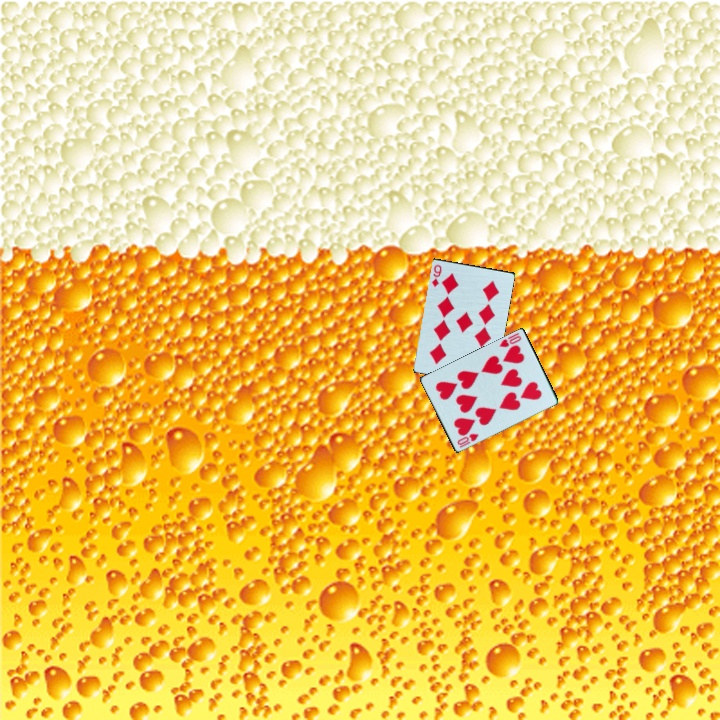10h: (454, 430, 482, 451), (496, 329, 524, 350)
9d: (428, 261, 445, 290)
